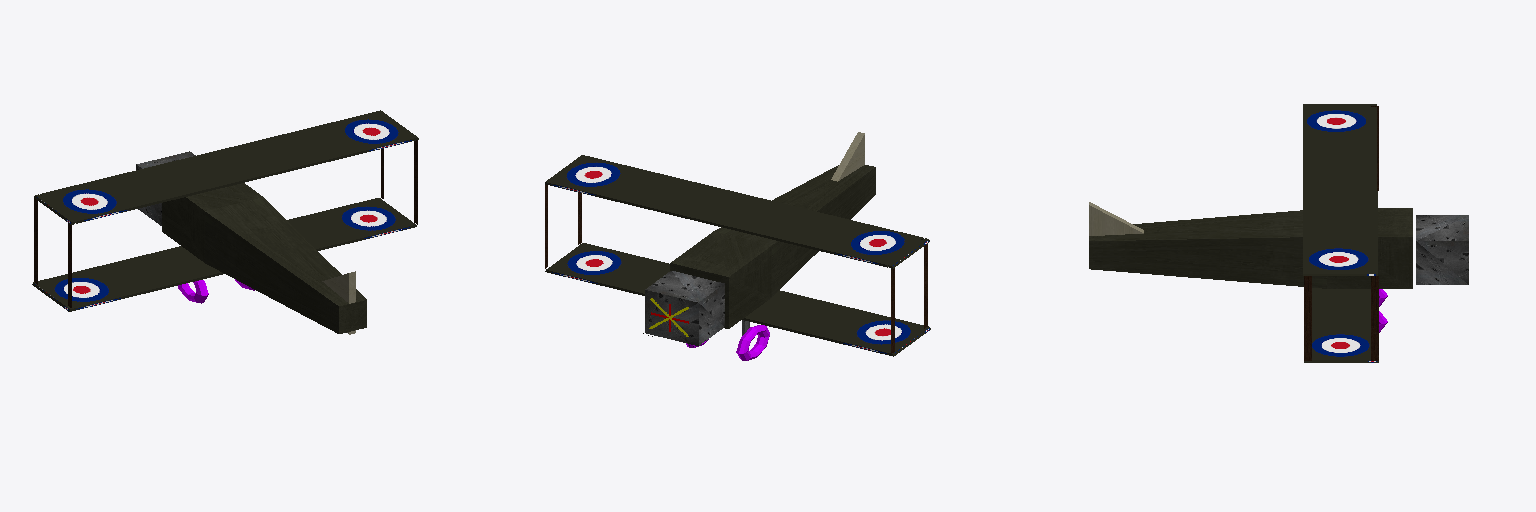
The picture shows the model from 3 angles: view 1: azimuth 30°, elevation 25°; view 2: azimuth 150°, elevation 25°; view 3: azimuth 270°, elevation 25°; orthographic projection.
Visible parts, largest first — view 1: mainbody, wing3, wing2, wingsupport, tail, engine; view 2: wing3, mainbody, wing2, engine, wingsupport, wheel, tail; view 3: mainbody, wing3, wing2, engine, wingsupport, tail.
Part boxes in pixels (x1,y1,x2,y2): mainbody: (162, 183, 366, 333); wing3: (34, 110, 418, 224); wing2: (32, 198, 416, 311); wingsupport: (34, 140, 417, 307); tail: (322, 271, 355, 334); engine: (136, 151, 195, 225); wing3: (545, 155, 929, 268); mainbody: (670, 165, 875, 328); wing2: (545, 243, 930, 356); engine: (645, 271, 724, 345); wingsupport: (545, 185, 927, 353); wheel: (686, 325, 769, 360); tail: (831, 132, 864, 181); mainbody: (1089, 208, 1412, 288); wing3: (1303, 104, 1377, 275); wing2: (1304, 191, 1378, 362); engine: (1416, 215, 1468, 284); wingsupport: (1304, 106, 1378, 360); tail: (1089, 202, 1143, 235).
Size of the model in its own units: 3.86 by 1.42 by 3.65.
1 materials, 1 textured.